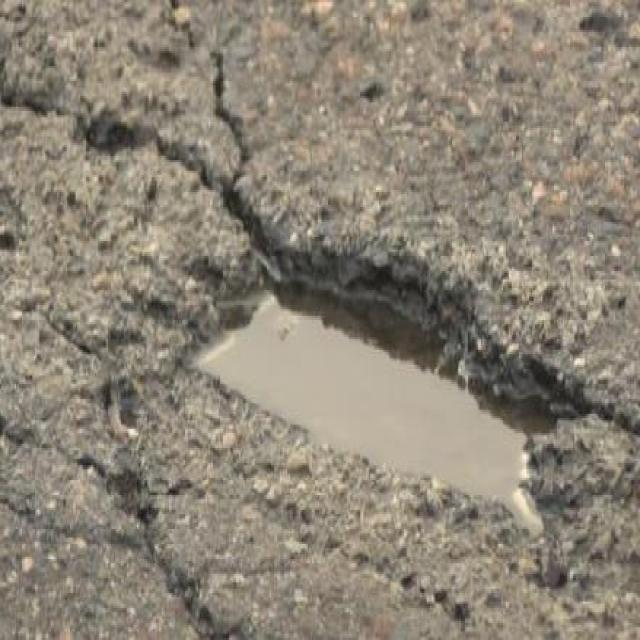cracks: (49, 27, 292, 241)
pothole: (165, 228, 611, 548)
